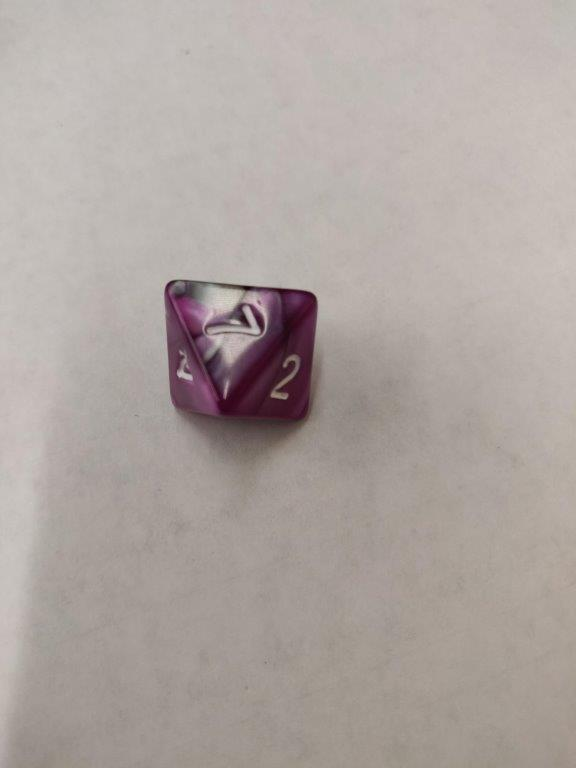d8-7: (165, 278, 318, 428)
